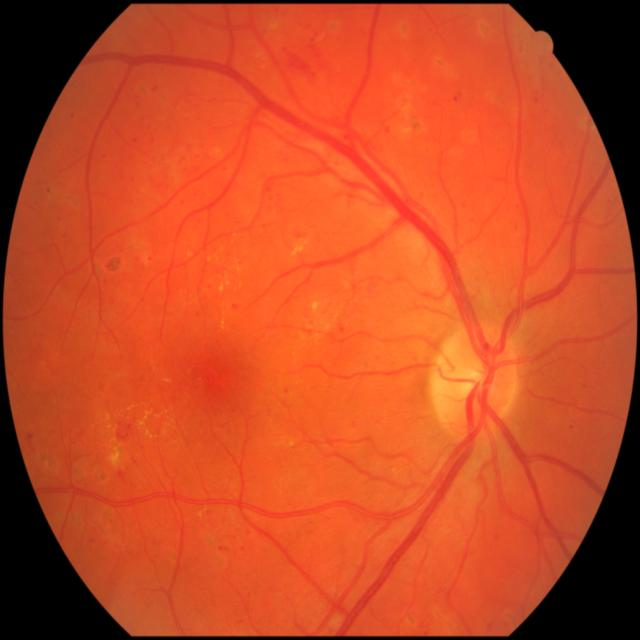OC: (461, 365, 485, 398)
OD: (432, 322, 523, 433)
